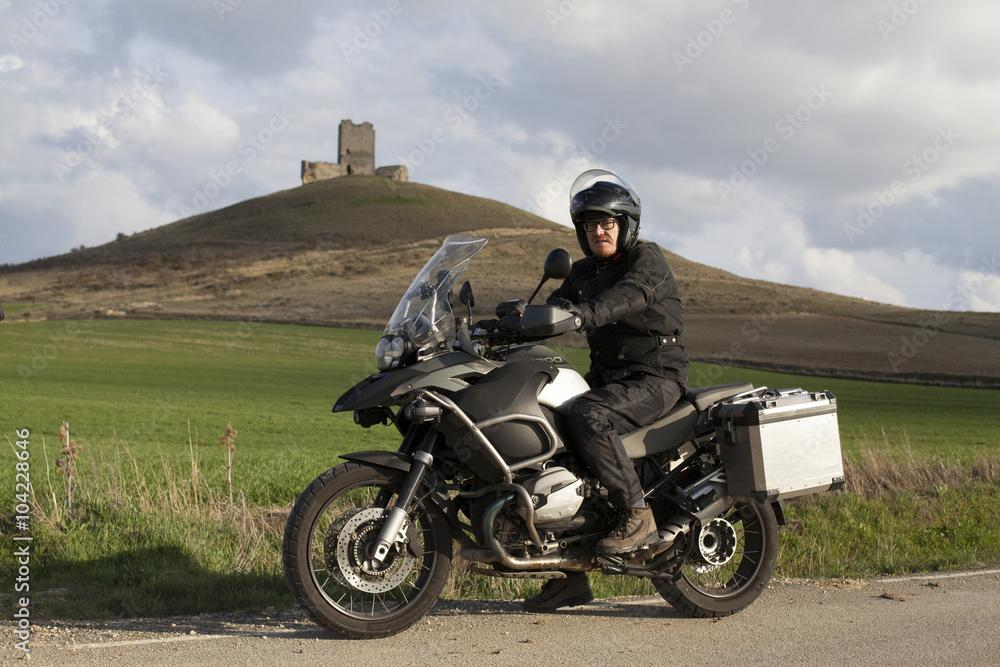helmet: (568, 168, 642, 264)
